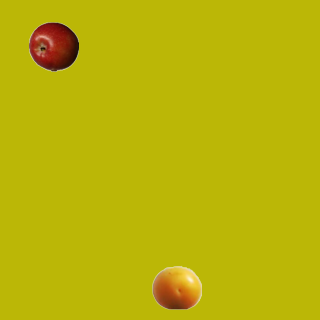Apple Braeburn: (28, 21, 78, 71)
Cherry Wax Yellow: (151, 262, 201, 312)
